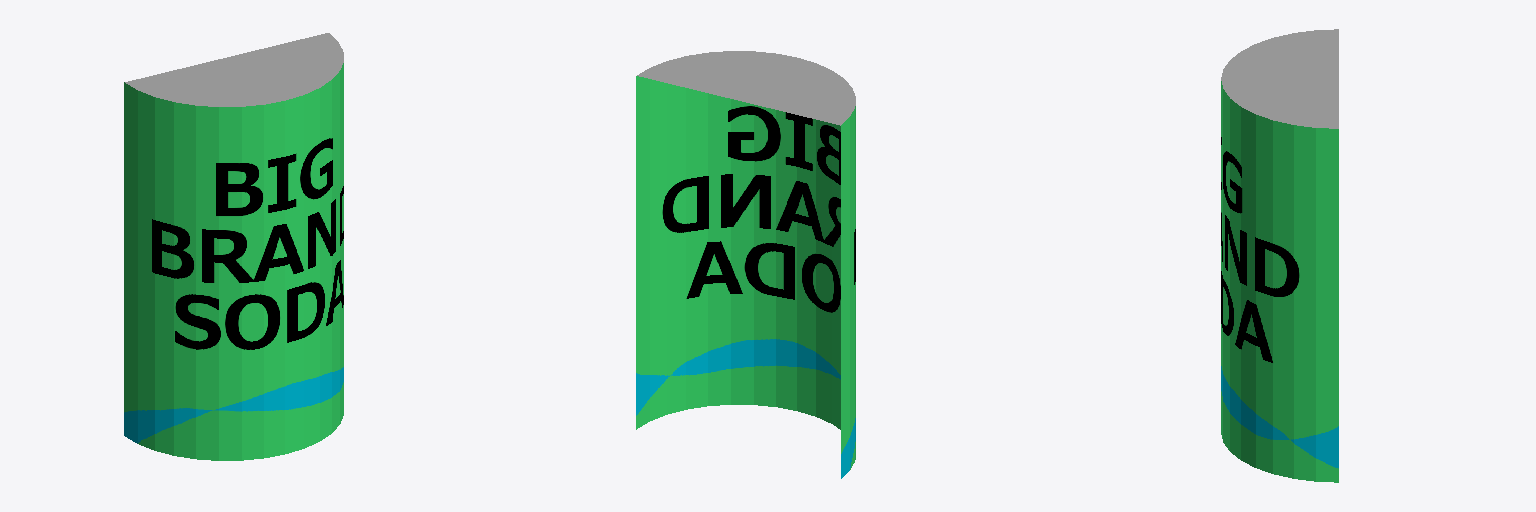
3 views of the same model, side by side, from view 1: azimuth 30°, elevation 25°; view 2: azimuth 150°, elevation 25°; view 3: azimuth 270°, elevation 25° (orthographic).
Parts seen in each view (by area): view 1: Can_Small_Cylinder.001; view 2: Can_Small_Cylinder.001; view 3: Can_Small_Cylinder.001.
Part boxes in pixels (x1,y1,x2,y2): Can_Small_Cylinder.001: (124,33,343,460); Can_Small_Cylinder.001: (636,51,855,478); Can_Small_Cylinder.001: (1221,29,1338,482).
Size of the model in its own units: 1.19 by 1.96 by 0.5934.
1 materials, 1 textured.